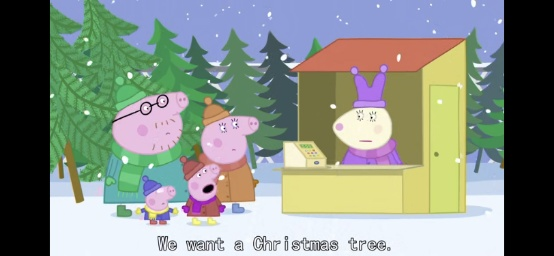Peppa: (178, 156, 229, 227)
